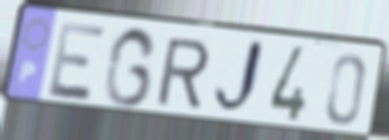0: (324, 52, 368, 127)
4: (266, 43, 310, 126)
E: (46, 19, 110, 104)
G: (100, 24, 160, 110)
J: (211, 36, 268, 120)
R: (153, 36, 212, 110)
